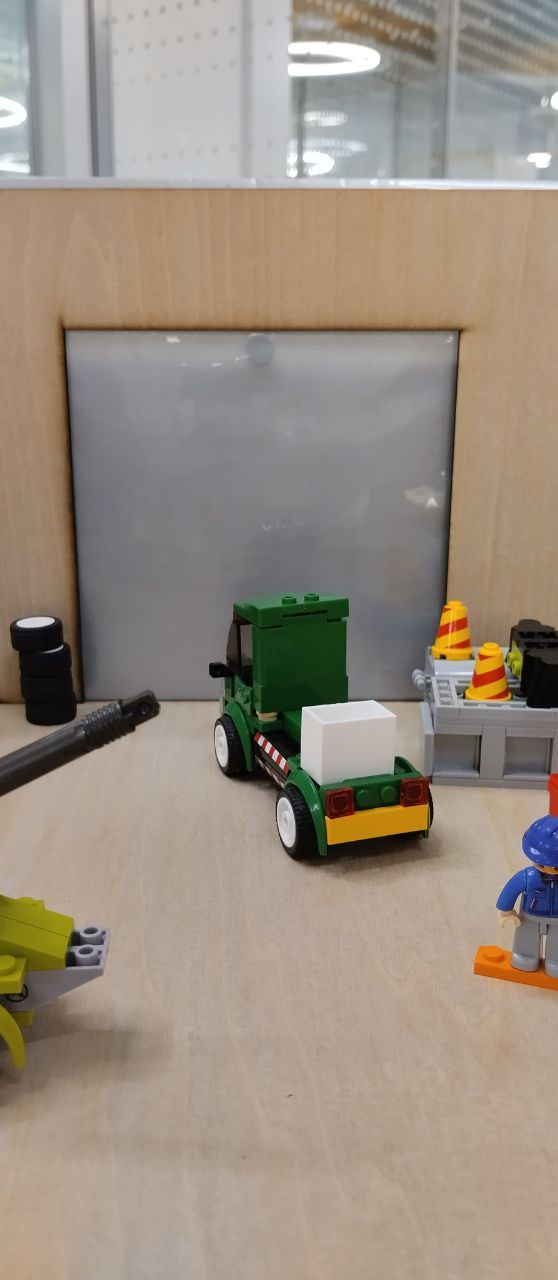Cone: (462, 643, 511, 708), (427, 597, 469, 660)
Crane: (0, 691, 159, 1128)
Object Black: (506, 614, 558, 706)
Object white: (305, 701, 393, 781)
Truck: (217, 590, 441, 867)
